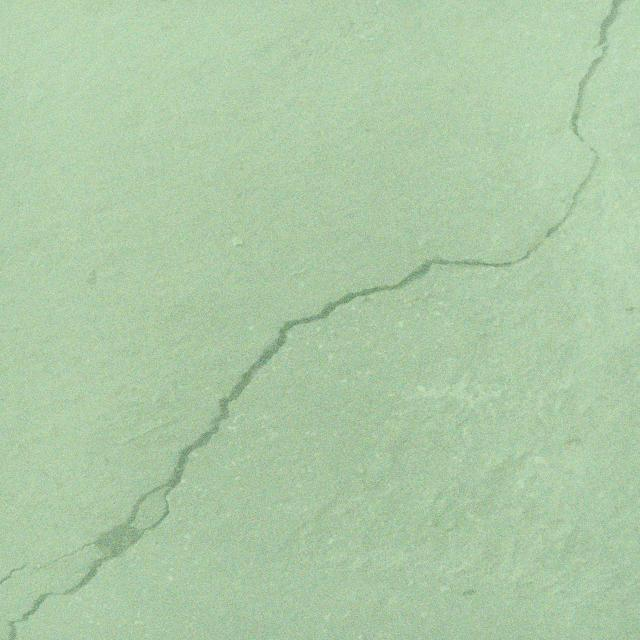crack: (7, 43, 610, 640), (592, 0, 626, 49), (0, 556, 49, 585)
